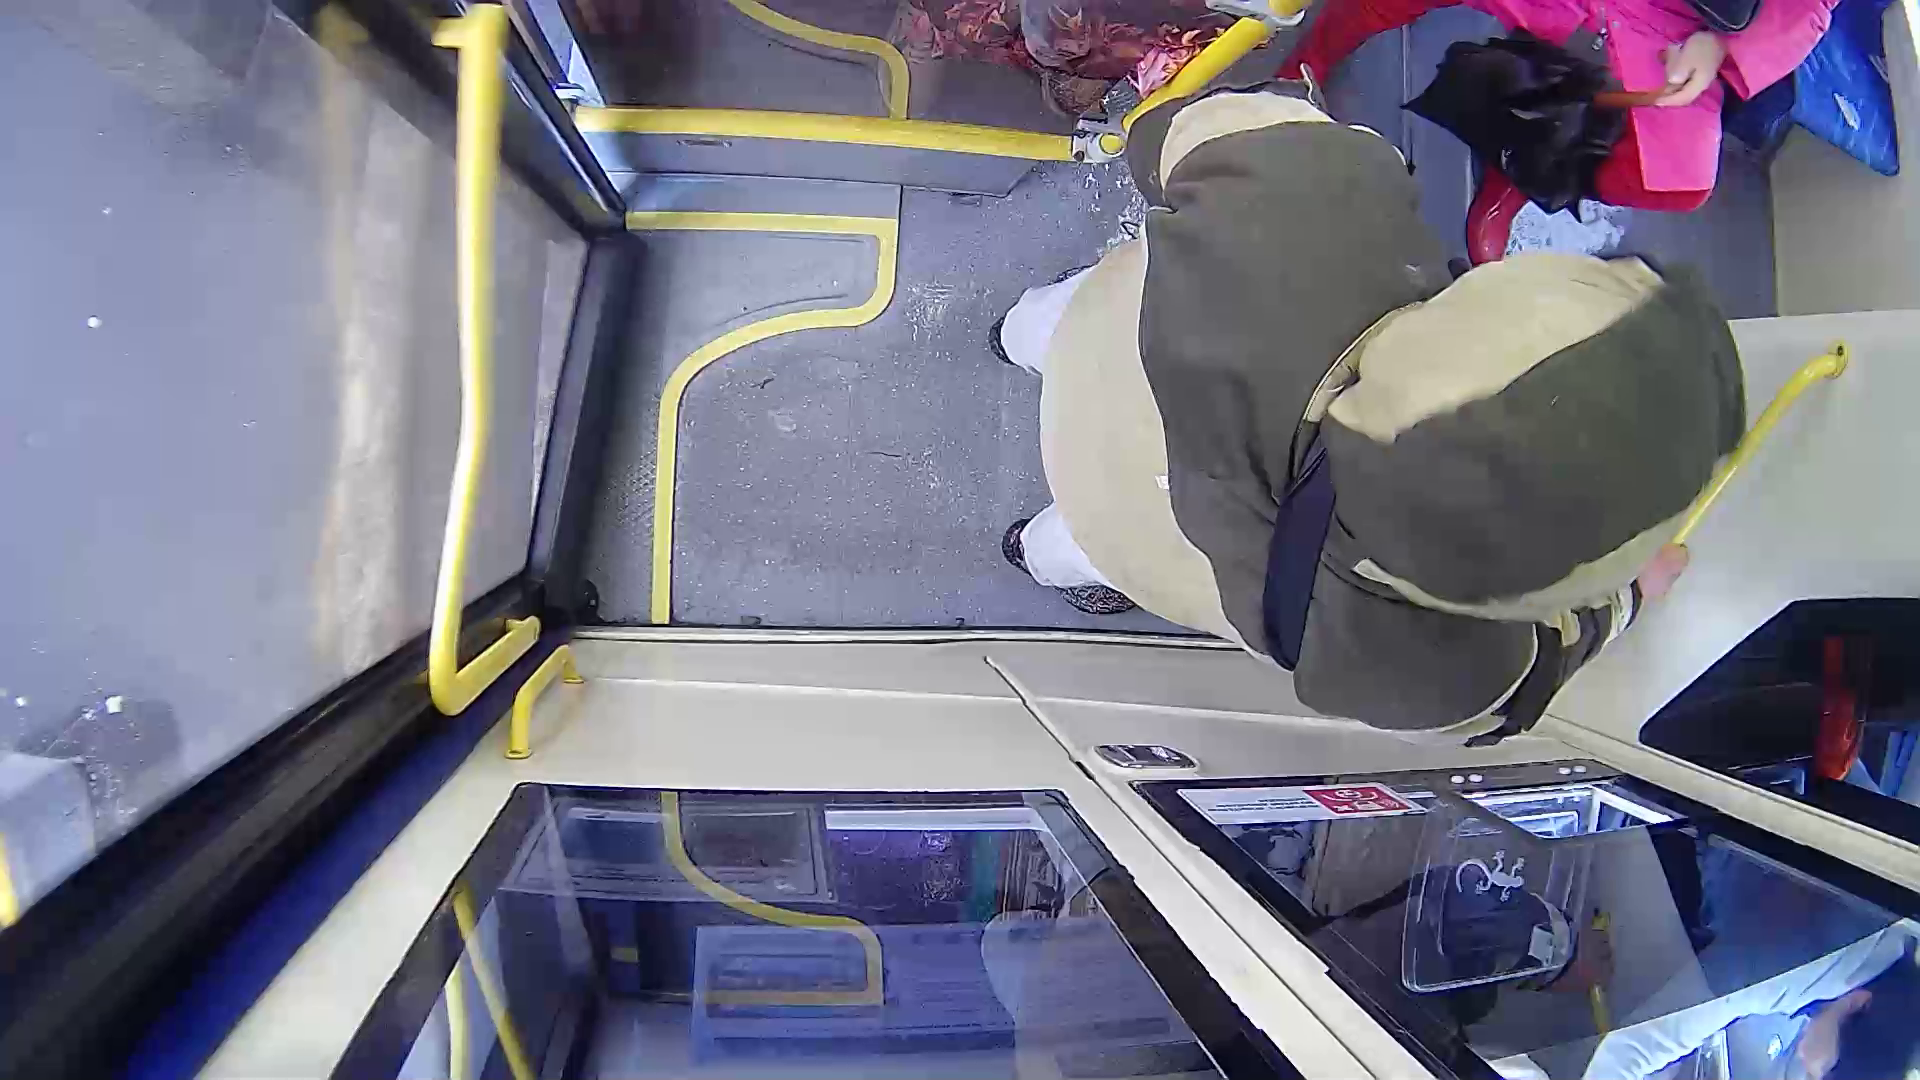person: (946, 133, 1775, 746)
